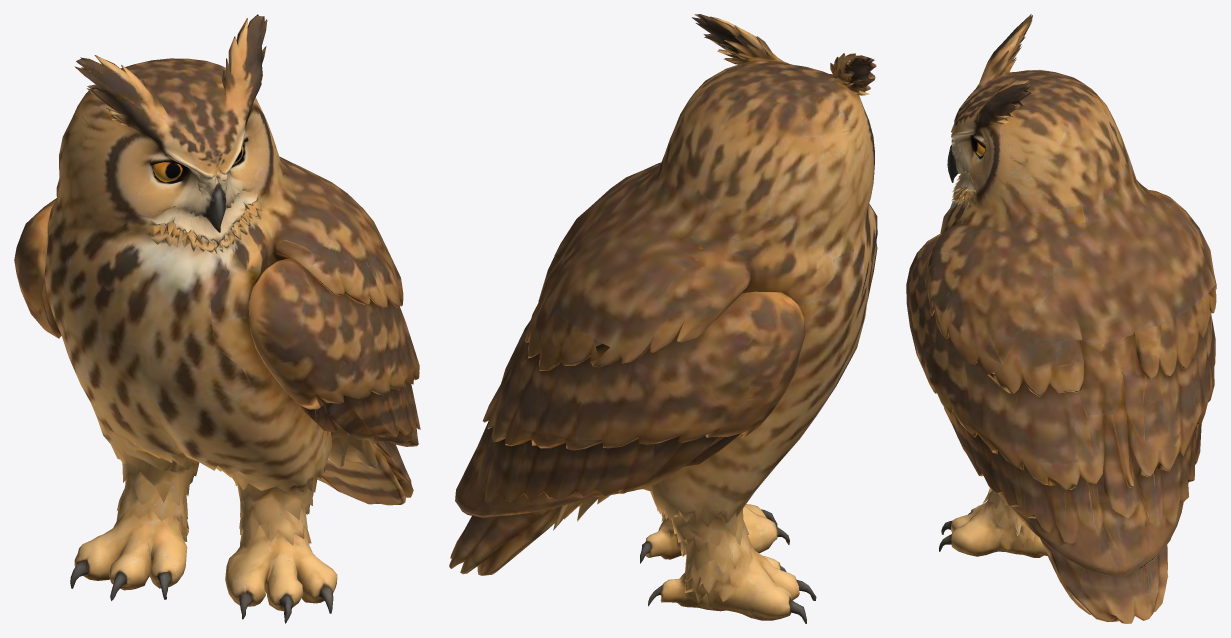
Rendered from owl-eurasianeagle.glb.
The picture shows the model from 3 angles, left to right: view 1: azimuth 30°, elevation 25°; view 2: azimuth 150°, elevation 25°; view 3: azimuth 270°, elevation 25°; orthographic projection. The views are drawn at different scales.
Visible parts, largest first — view 1: geometry_0; view 2: geometry_0; view 3: geometry_0.
Part boxes in pixels (x1,y1,x2,y2): geometry_0: (14,14,420,623); geometry_0: (449,14,877,623); geometry_0: (906,14,1216,623).
Bounding box in the file's own units: 0.6694 × 0.9521 × 0.5781.
Materials: 1 (1 with a texture image).
